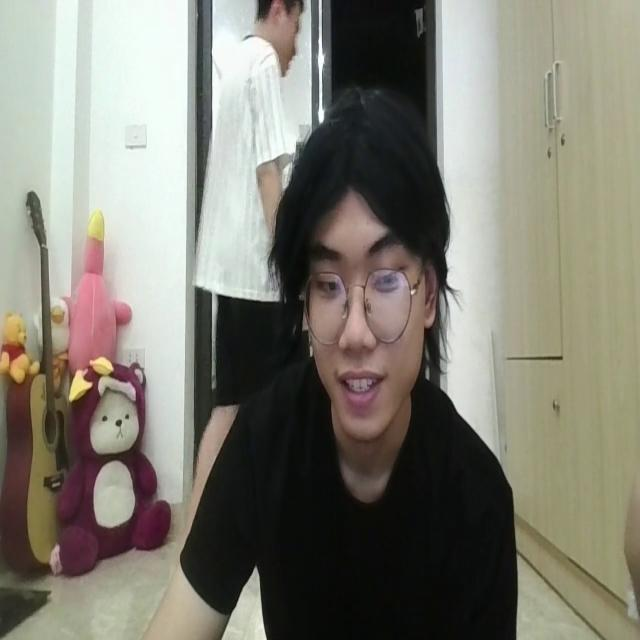extra_person: (198, 0, 298, 360)
student: (156, 86, 518, 640)
